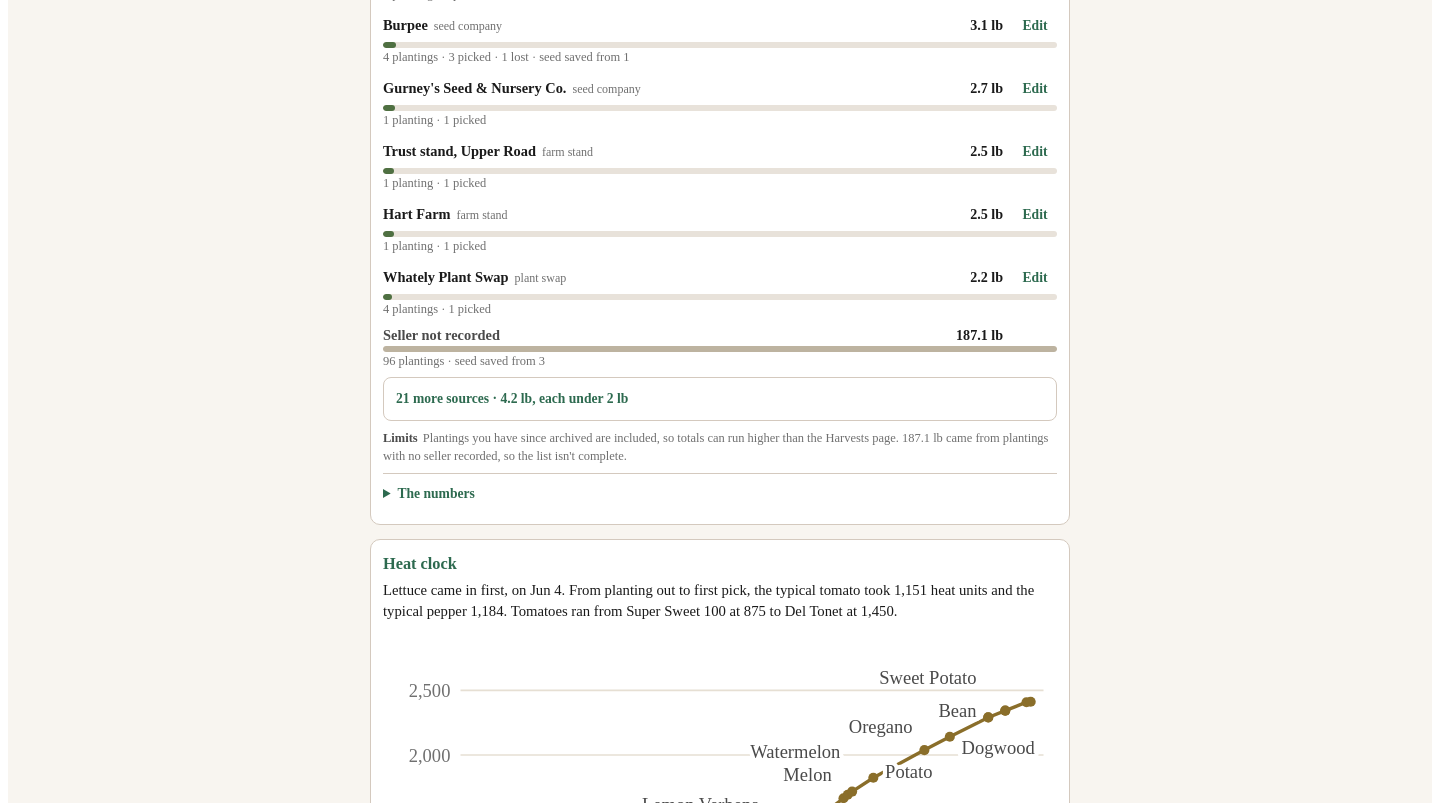
it: SeasonStats › the source report folds sources under 2 lb behind "N more sources"
The image size is (1440, 803).
(page scrolled)
Expected: the text "Seller not recorded" is shown, [383, 327, 500, 343]
Expected: the text "96 plantings · seed saved from 3" is shown, [383, 354, 545, 368]
Click the button with test id "source-more": (512, 398) [383, 377, 1057, 421]
(page scrolled)
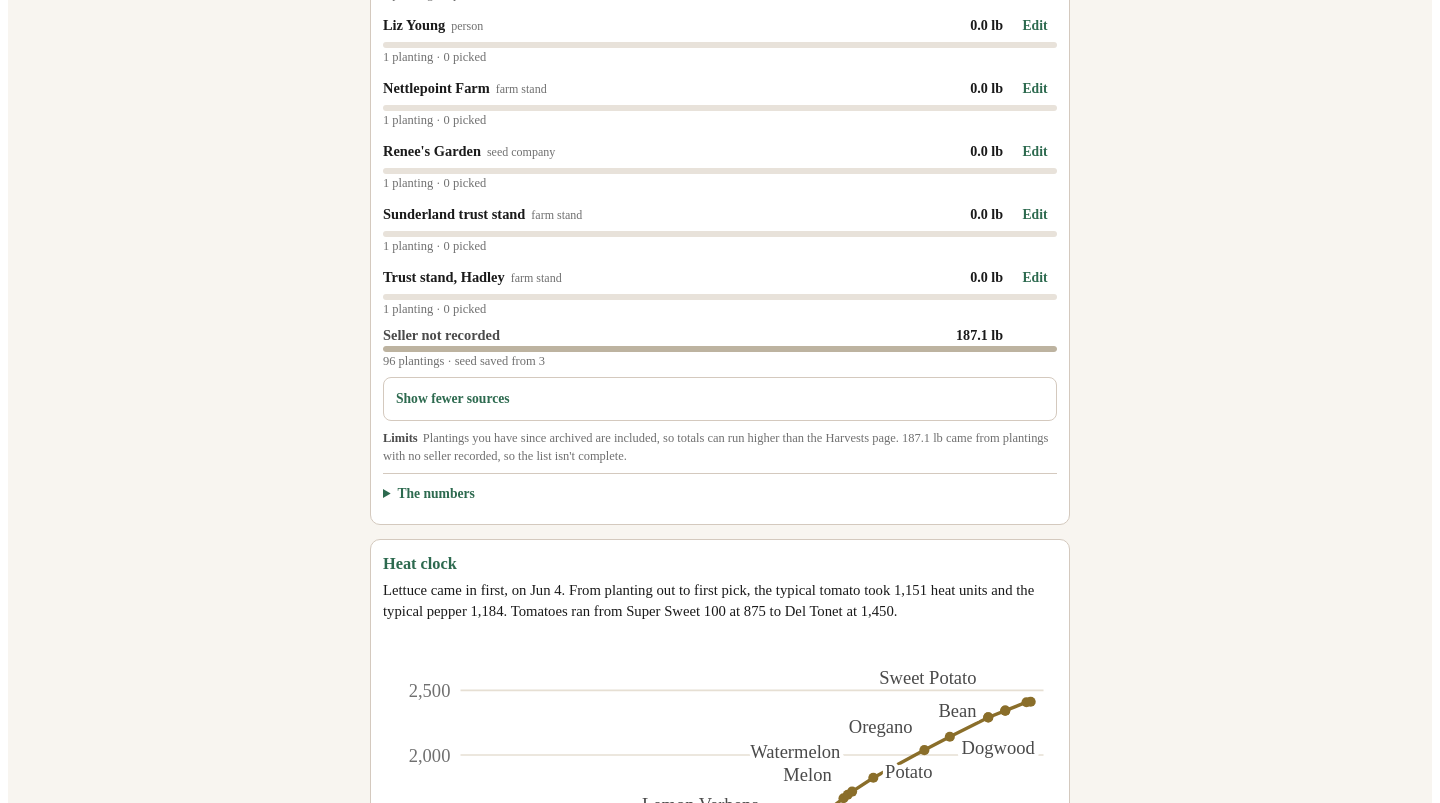
Expected: the button with test id "source-more" is expanded, [383, 377, 1057, 421]
